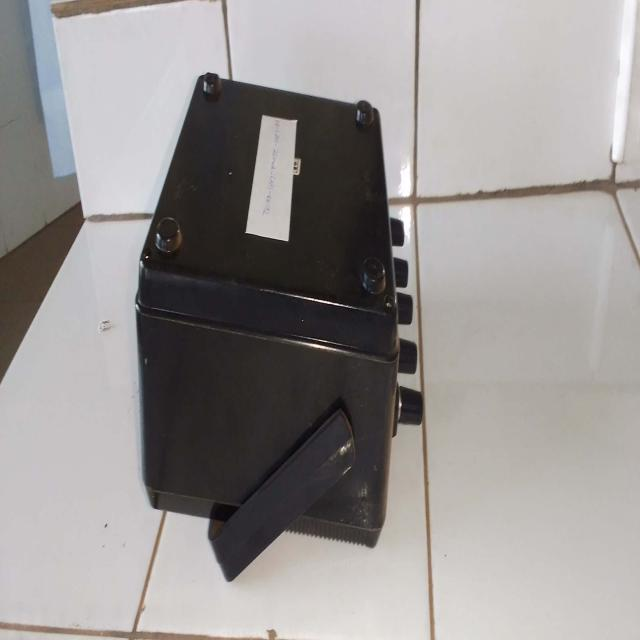Ammeter Analog: (125, 66, 430, 569)
